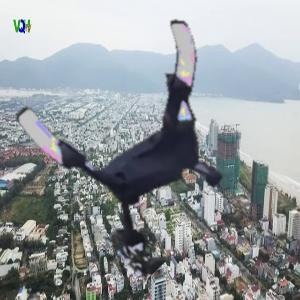drone: (42, 27, 255, 240)
